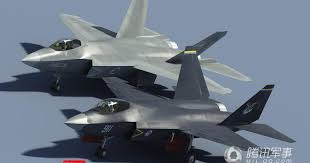fighter: (66, 47, 300, 159), (19, 1, 252, 99)
